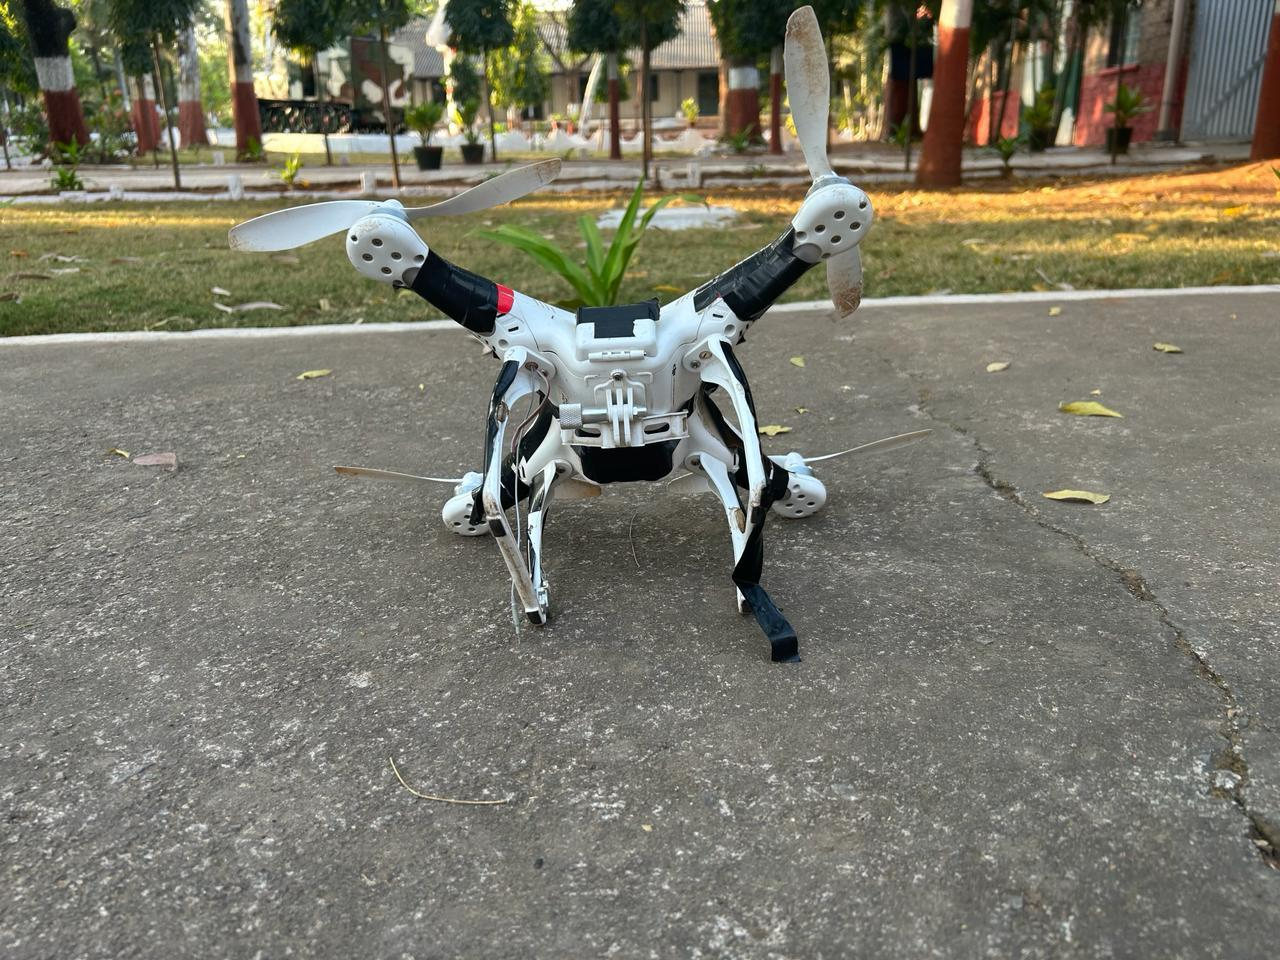drone: (105, 83, 1076, 681)
